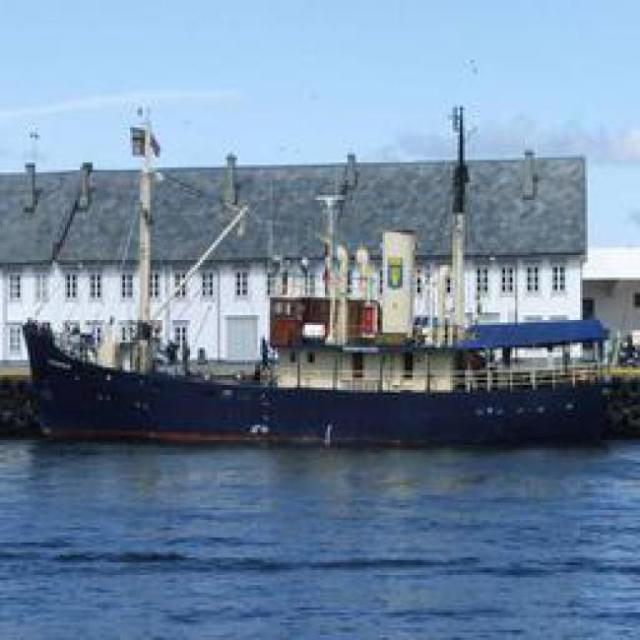boat: (10, 293, 604, 447)
